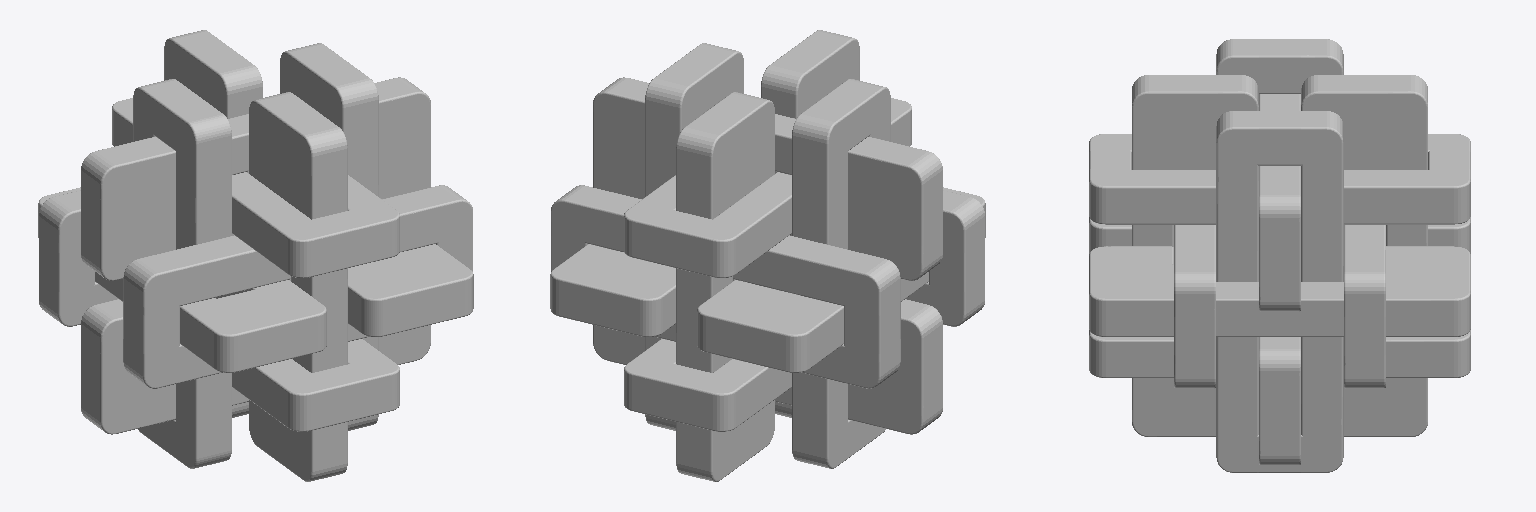
Rendered from lock.obj.
The picture shows the model from 3 angles: view 1: azimuth 30°, elevation 25°; view 2: azimuth 150°, elevation 25°; view 3: azimuth 270°, elevation 25°; orthographic projection.
Visible parts, largest first — view 1: Mtl, Mtl2, Mtl1, Mtl3, Mtl6, Mtl4, Mtl8, Mtl5, Mtl9; view 2: Mtl, Mtl2, Mtl3, Mtl1, Mtl4, Mtl7, Mtl6; view 3: Mtl, Mtl2, Mtl3, Mtl1, Mtl4, Mtl6, Mtl9, Mtl7, Mtl8.
Part boxes in pixels (x1,y1,x2,y2): Mtl: (39, 43, 472, 441); Mtl2: (81, 30, 473, 481); Mtl1: (39, 53, 472, 457); Mtl3: (70, 40, 430, 470); Mtl6: (175, 105, 231, 468); Mtl4: (38, 190, 326, 372); Mtl8: (348, 264, 405, 336); Mtl5: (218, 290, 295, 366); Mtl9: (367, 253, 442, 330); Mtl: (551, 43, 984, 468); Mtl2: (550, 30, 942, 481); Mtl3: (581, 40, 942, 470); Mtl1: (551, 53, 984, 457); Mtl4: (697, 190, 985, 372); Mtl7: (618, 264, 675, 336); Mtl6: (836, 79, 890, 441); Mtl: (1089, 39, 1470, 472); Mtl2: (1089, 75, 1470, 464); Mtl3: (1174, 75, 1470, 436); Mtl1: (1089, 39, 1470, 472); Mtl4: (1089, 217, 1470, 253); Mtl6: (1216, 39, 1258, 87); Mtl9: (1089, 264, 1173, 282); Mtl7: (1386, 246, 1470, 264); Mtl8: (1089, 246, 1173, 264).
Size of the model in its own units: 0.09 by 0.09 by 0.09.